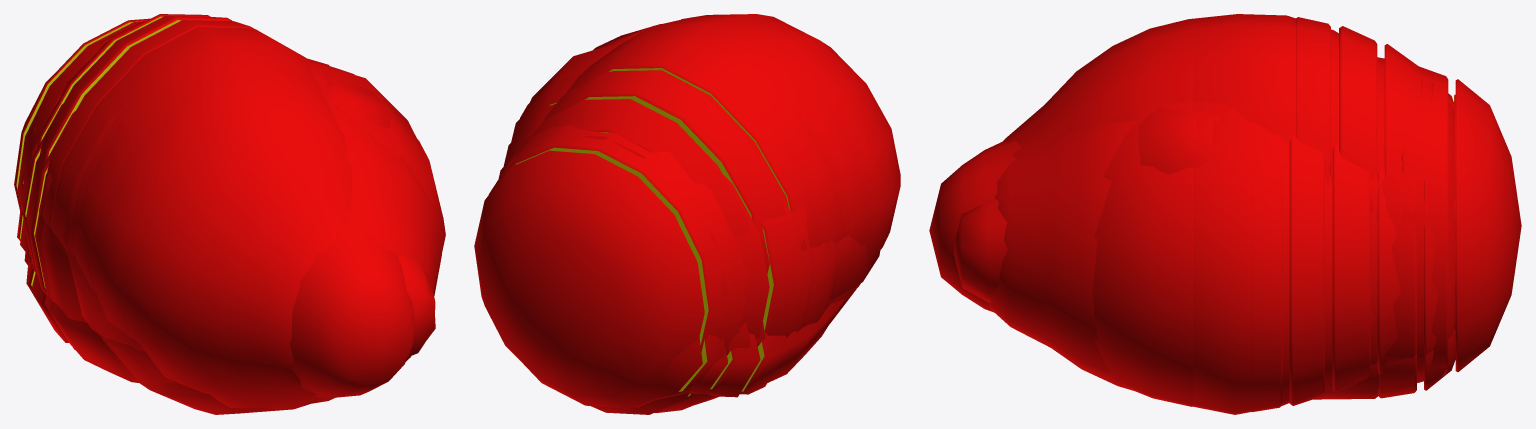
File: lettuce_grp.fbx
3 renders of one model, left to right at view 1: azimuth 30°, elevation 25°; view 2: azimuth 150°, elevation 25°; view 3: azimuth 270°, elevation 25°, orthographic. The views are drawn at different scales.
Visible parts, largest first — view 1: lettuce_b2, lettuce_b2_slice_1, lettuce_b10_slice_1, lettuce_b10, lettuce_b3, lettuce_b3_slice_1, lettuce_b2_slice_4, lettuce_b5, lettuce_b5_slice_1, lettuce_b2_slice_5, lettuce_b2_slice_2, lettuce_b9_slice_6 (+13 smaller); view 2: lettuce_b9_slice_7, lettuce_b2, lettuce_b9_slice_6, lettuce_b2_slice_5, lettuce_b2_slice_4, lettuce_b2_slice_6, lettuce_b3_slice_5, lettuce_b2_slice_2, lettuce_b3_slice_6, lettuce_b3, lettuce_b2_slice_1, lettuce_a6_slice_6 (+15 smaller); view 3: lettuce_b5, lettuce_b5_slice_1, lettuce_b2, lettuce_b3_slice_1, lettuce_b9_slice_7, lettuce_b5_slice_4, lettuce_b5_slice_3, lettuce_b9_slice_6, lettuce_b5_slice_5, lettuce_b3, lettuce_b2_slice_1, lettuce_b2_slice_5 (+16 smaller).
Part boxes in pixels (left/top/right/bottom): lettuce_b2: left=49, top=27, right=352, bottom=408; lettuce_b2_slice_1: left=118, top=68, right=352, bottom=407; lettuce_b10_slice_1: left=289, top=228, right=415, bottom=397; lettuce_b10: left=291, top=226, right=410, bottom=397; lettuce_b3: left=35, top=118, right=433, bottom=403; lettuce_b3_slice_1: left=348, top=136, right=441, bottom=358; lettuce_b2_slice_4: left=39, top=20, right=254, bottom=227; lettuce_b5: left=141, top=63, right=445, bottom=414; lettuce_b5_slice_1: left=173, top=83, right=445, bottom=413; lettuce_b2_slice_5: left=40, top=16, right=232, bottom=164; lettuce_b2_slice_2: left=73, top=123, right=134, bottom=293; lettuce_b9_slice_6: left=17, top=21, right=142, bottom=211; lettuce_b9_slice_7: left=474, top=150, right=704, bottom=408; lettuce_b2: left=582, top=14, right=894, bottom=259; lettuce_b9_slice_6: left=488, top=125, right=745, bottom=407; lettuce_b2_slice_5: left=543, top=70, right=785, bottom=273; lettuce_b2_slice_4: left=565, top=47, right=822, bottom=251; lettuce_b2_slice_6: left=526, top=99, right=749, bottom=238; lettuce_b3_slice_5: left=760, top=159, right=803, bottom=337; lettuce_b2_slice_2: left=805, top=96, right=870, bottom=246; lettuce_b3_slice_6: left=723, top=175, right=769, bottom=338; lettuce_b3: left=789, top=202, right=839, bottom=332; lettuce_b2_slice_1: left=681, top=14, right=900, bottom=213; lettuce_a6_slice_6: left=707, top=333, right=760, bottom=397; lettuce_b5: left=1103, top=102, right=1332, bottom=414; lettuce_b5_slice_1: left=1092, top=102, right=1192, bottom=406; lettuce_b2: left=1003, top=14, right=1384, bottom=159; lettuce_b3_slice_1: left=989, top=121, right=1137, bottom=388; lettuce_b9_slice_7: left=1455, top=79, right=1521, bottom=371; lettuce_b5_slice_4: left=1289, top=135, right=1324, bottom=405; lettuce_b5_slice_3: left=1251, top=120, right=1282, bottom=412; lettuce_b9_slice_6: left=1401, top=66, right=1448, bottom=382; lettuce_b5_slice_5: left=1332, top=144, right=1370, bottom=392; lettuce_b3: left=994, top=118, right=1137, bottom=391; lettuce_b2_slice_1: left=1021, top=18, right=1193, bottom=136; lettuce_b2_slice_5: left=1339, top=26, right=1377, bottom=212.
Bounding box in the file's own units: 20.66 × 19.64 × 29.27.
